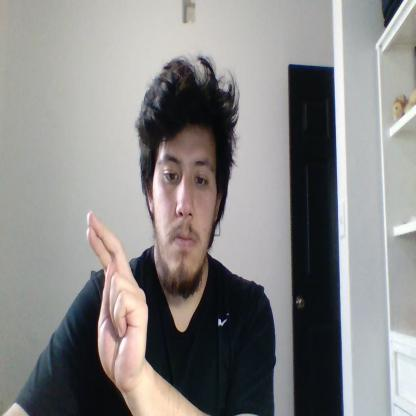R: (86, 211, 149, 390)
